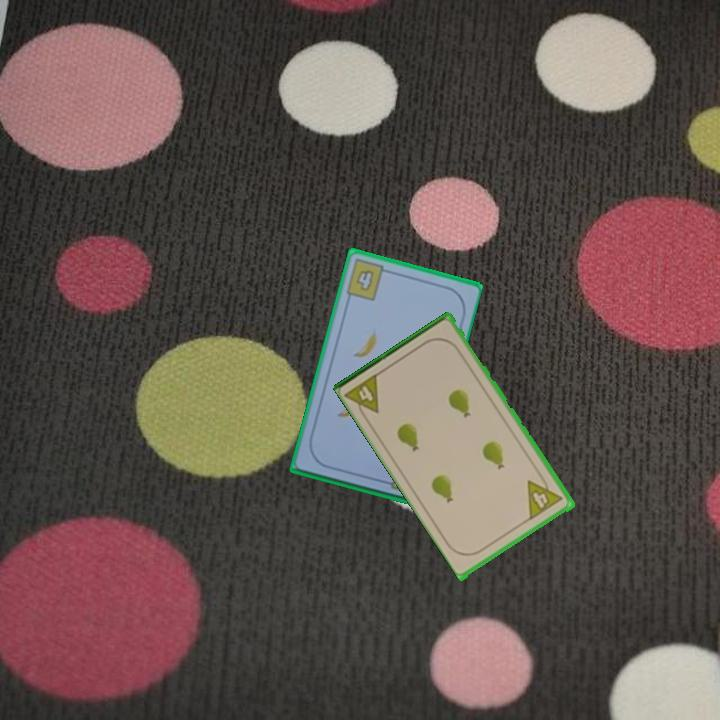4b: (342, 255, 393, 303)
4p: (342, 369, 383, 423), (524, 470, 566, 522)
